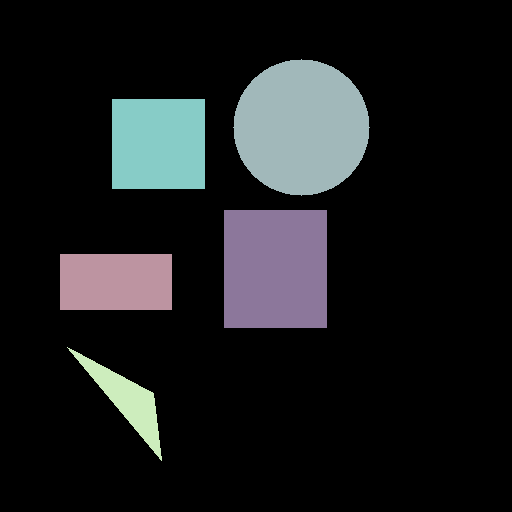circle: (233, 59, 369, 195)
rectangle: (224, 210, 326, 327), (60, 254, 171, 309)
square: (112, 99, 204, 188)
triangle: (67, 347, 161, 460)
